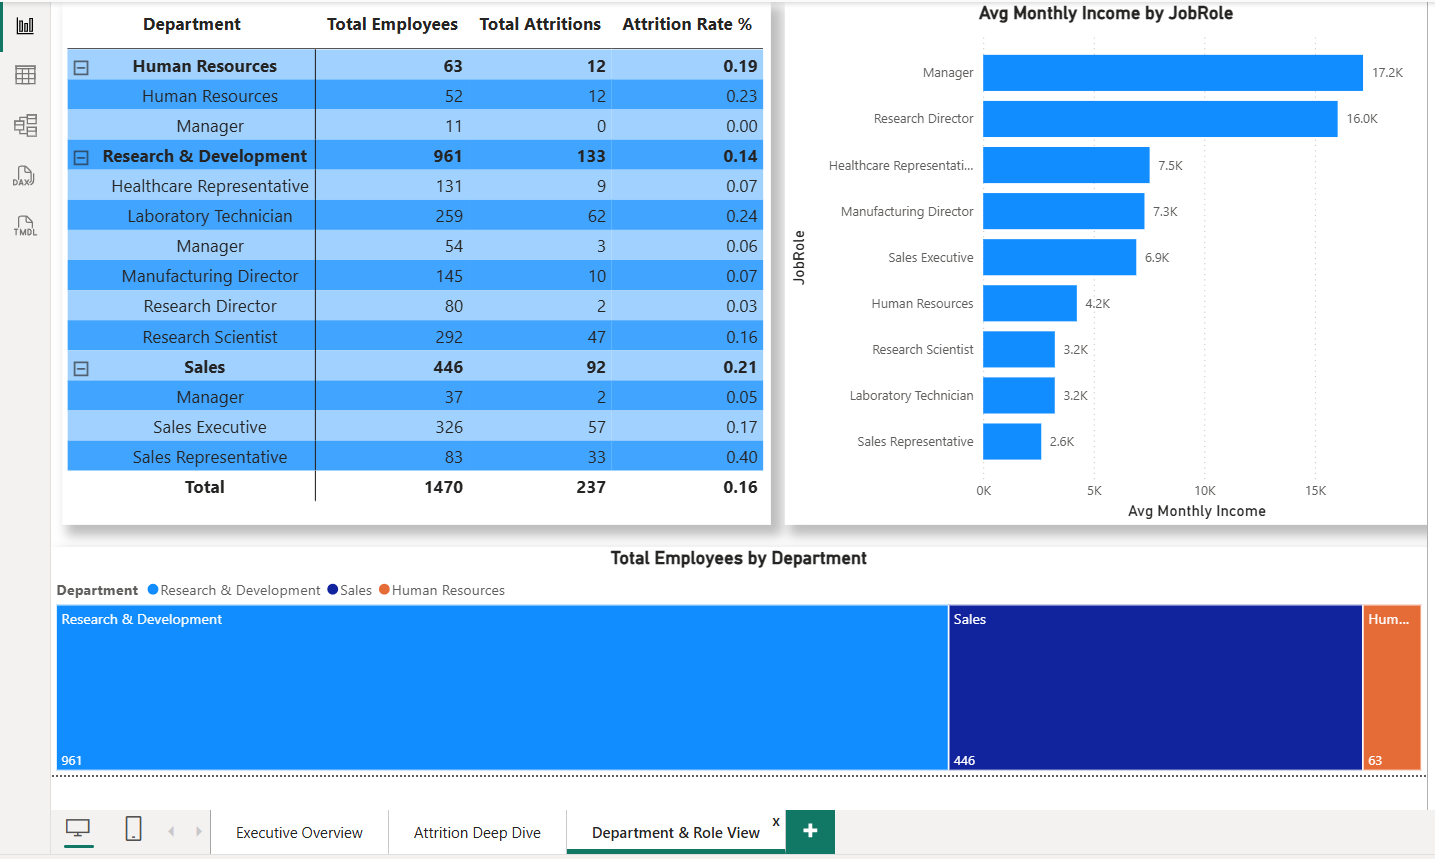

What the dashboard file says about the page in this screenshot:
{"tool":"powerbi","page":{"name":"Department & Role View","canvas":[1280,720],"ordinal":2},"visuals":[{"type":"pivotTable","fields":{"Rows":["HR Data.Department","HR Data.JobRole"],"Values":["_Measures.Total Employees","_Measures.Total Attritions","_Measures.Attrition Rate %"]},"box":[10.1,0,658.8,486.5],"z":0},{"type":"barChart","fields":{"Category":["HR Data.JobRole"],"Y":["_Measures.Avg Monthly Income"]},"box":[682,0,598,486.5],"z":1000},{"type":"treemap","fields":{"Group":["HR Data.Department"],"Values":["_Measures.Total Employees"]},"box":[0,506.8,1280,212.9],"z":2000}]}

Visuals, with their boxes on the page's 1280x720 design canvas (x1, y1, x2, y2). These are canvas units, not pixel positions in the 1435x859 screenshot, which may show the page scaled, cropped or inside an application window:
pivotTable - HR Data.Department x HR Data.JobRole: {"x1": 10, "y1": 0, "x2": 669, "y2": 486}
barChart - HR Data.JobRole x _Measures.Avg Monthly Income: {"x1": 682, "y1": 0, "x2": 1280, "y2": 486}
treemap - HR Data.Department x _Measures.Total Employees: {"x1": 0, "y1": 507, "x2": 1280, "y2": 720}
